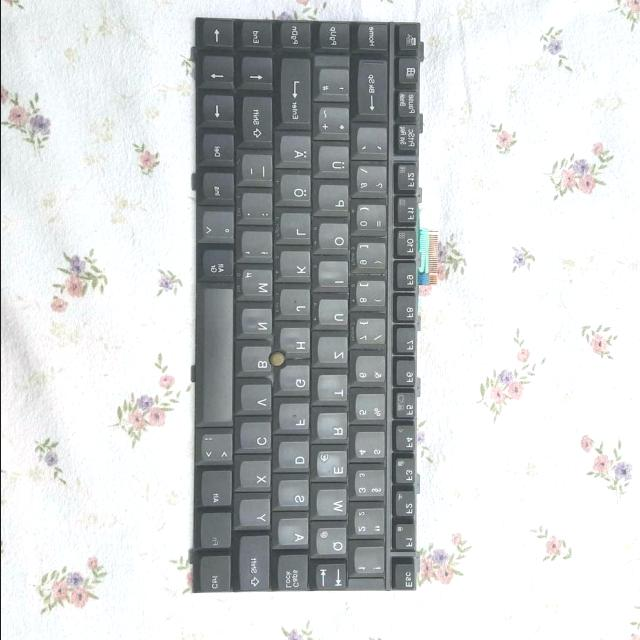0: (357, 206, 391, 238)
1: (355, 548, 388, 578)
2: (355, 510, 388, 540)
3: (355, 471, 389, 503)
4: (355, 434, 388, 464)
5: (356, 396, 389, 426)
6: (356, 358, 389, 389)
7: (356, 320, 389, 349)
8: (355, 282, 389, 312)
9: (356, 244, 390, 274)
a: (280, 521, 312, 550)
accent: (358, 129, 391, 161)
ae: (282, 138, 315, 170)
alt-left: (202, 473, 235, 511)
altgr-right: (203, 251, 237, 282)
b: (242, 349, 274, 378)
c: (242, 425, 275, 455)
caret: (202, 212, 238, 246)
comma: (242, 233, 276, 265)
d: (280, 444, 313, 474)
del: (358, 61, 391, 121)
e: (318, 452, 350, 482)
enter: (282, 59, 315, 131)
f: (280, 405, 312, 435)
g: (281, 368, 313, 398)
h: (282, 329, 312, 359)
hash: (318, 71, 352, 104)
i: (320, 263, 352, 293)
j: (281, 291, 314, 322)
k: (282, 253, 314, 284)
keyboard: (188, 14, 430, 601)
l: (282, 215, 314, 247)
less: (200, 435, 236, 467)
m: (243, 271, 277, 303)
minus: (242, 156, 276, 188)
n: (243, 310, 276, 340)
o: (320, 225, 352, 257)
oe: (281, 176, 314, 208)
p: (320, 187, 353, 219)
plus: (319, 109, 353, 142)
point: (242, 195, 276, 227)
q: (316, 529, 350, 559)
r: (318, 415, 350, 445)
s: (280, 482, 312, 512)
shift-left: (240, 538, 273, 595)
shift-lock: (278, 557, 310, 594)
shift-right: (242, 98, 276, 146)
space: (203, 290, 237, 428)
ss: (357, 168, 391, 200)
strg-left: (200, 557, 233, 597)
t: (319, 377, 351, 405)
tab: (315, 565, 349, 592)
u: (320, 301, 352, 331)
ue: (319, 148, 353, 182)
v: (243, 387, 275, 417)
w: (318, 491, 351, 521)
x: (241, 463, 274, 493)
y: (241, 501, 273, 531)
z: (318, 339, 350, 368)
